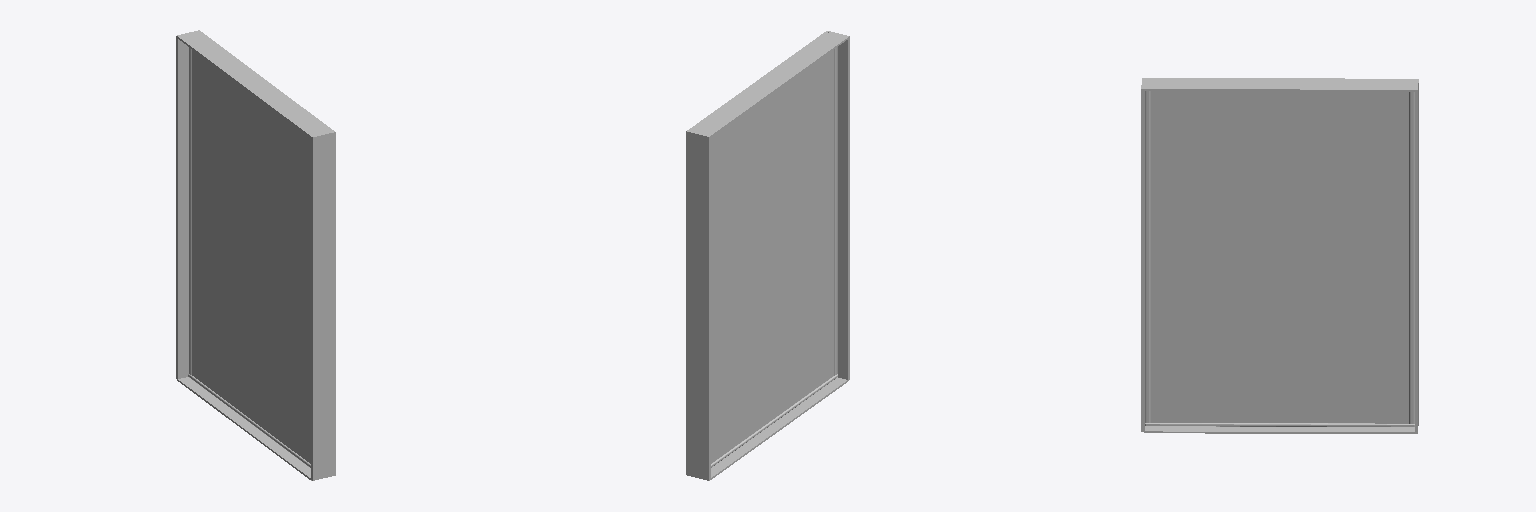
File: Ventana7.obj
3 renders of one model, left to right at view 1: azimuth 30°, elevation 25°; view 2: azimuth 150°, elevation 25°; view 3: azimuth 270°, elevation 25°, orthographic.
Visible parts, largest first — view 1: polySurface106; view 2: polySurface106; view 3: polySurface106.
Boxes of the visible parts, <box> form: polySurface106: <box>176,30,335,480</box>; polySurface106: <box>686,31,849,480</box>; polySurface106: <box>1141,78,1418,433</box>.
Size of the model in its own units: 0.1565 by 2.05 by 1.5.